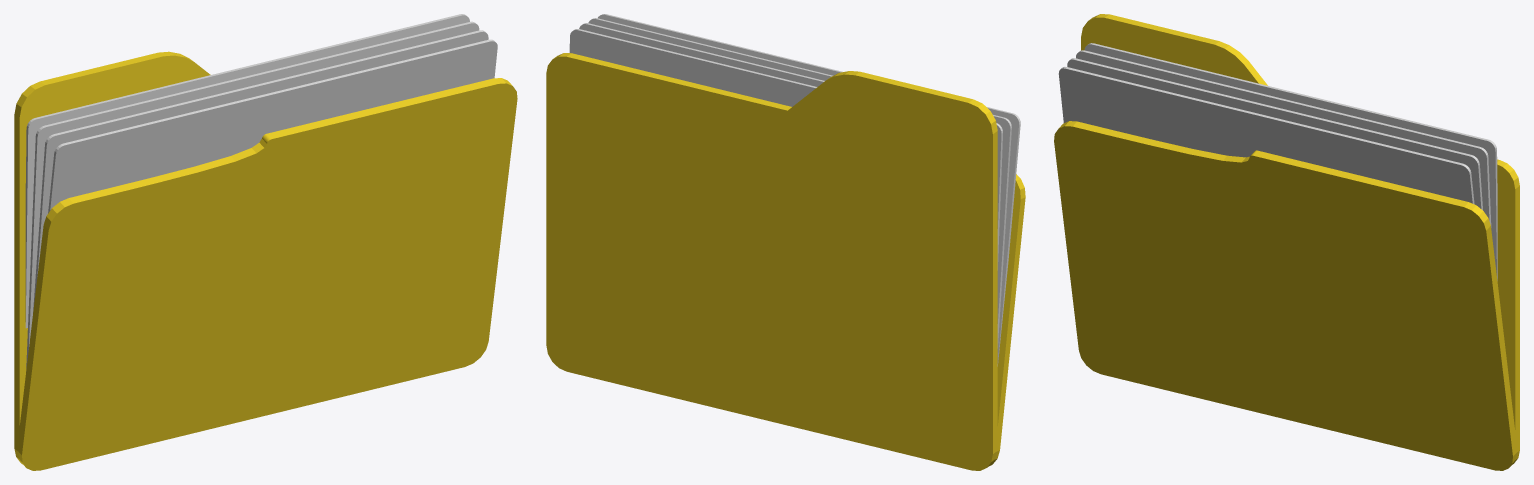
The model's file is folder.glb.
The picture shows the model from 3 angles, left to right: view 1: azimuth 30°, elevation 25°; view 2: azimuth 150°, elevation 25°; view 3: azimuth 330°, elevation 25°; orthographic projection. The views are drawn at different scales.
Parts seen in each view (by area): view 1: Arka Kapak, Sayfalar; view 2: Arka Kapak, Sayfalar; view 3: Arka Kapak, Sayfalar.
Boxes of the visible parts, x1=… form: Arka Kapak: x1=14, y1=51, x2=517, y2=470; Sayfalar: x1=25, y1=14, x2=497, y2=371; Arka Kapak: x1=546, y1=53, x2=1025, y2=470; Sayfalar: x1=569, y1=14, x2=1020, y2=366; Arka Kapak: x1=1054, y1=14, x2=1519, y2=470; Sayfalar: x1=1058, y1=43, x2=1497, y2=280.
Bounding box in the file's own units: 3.14 × 2.47 × 0.4519.
